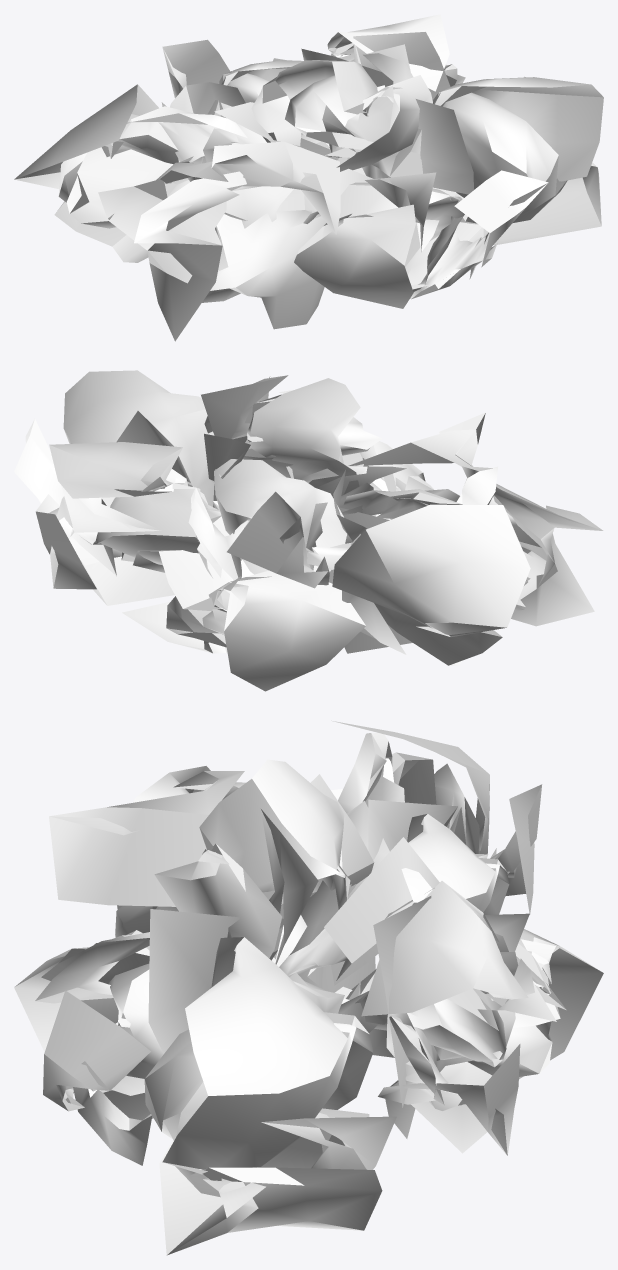
Rendered from TrashBigPile.fbx.
The picture shows the model from 3 angles, top to bottom: view 1: azimuth 30°, elevation 25°; view 2: azimuth 150°, elevation 25°; view 3: azimuth 270°, elevation 25°; orthographic projection. The views are drawn at different scales.
Visible parts, largest first — view 1: Trash.003; view 2: Trash.003; view 3: Trash.003.
Part boxes in pixels (x1=…): Trash.003: x1=14, y1=14, x2=603, y2=341; Trash.003: x1=14, y1=370, x2=603, y2=691; Trash.003: x1=14, y1=720, x2=603, y2=1255.
Size of the model in its own units: 172 by 74.07 by 116.
